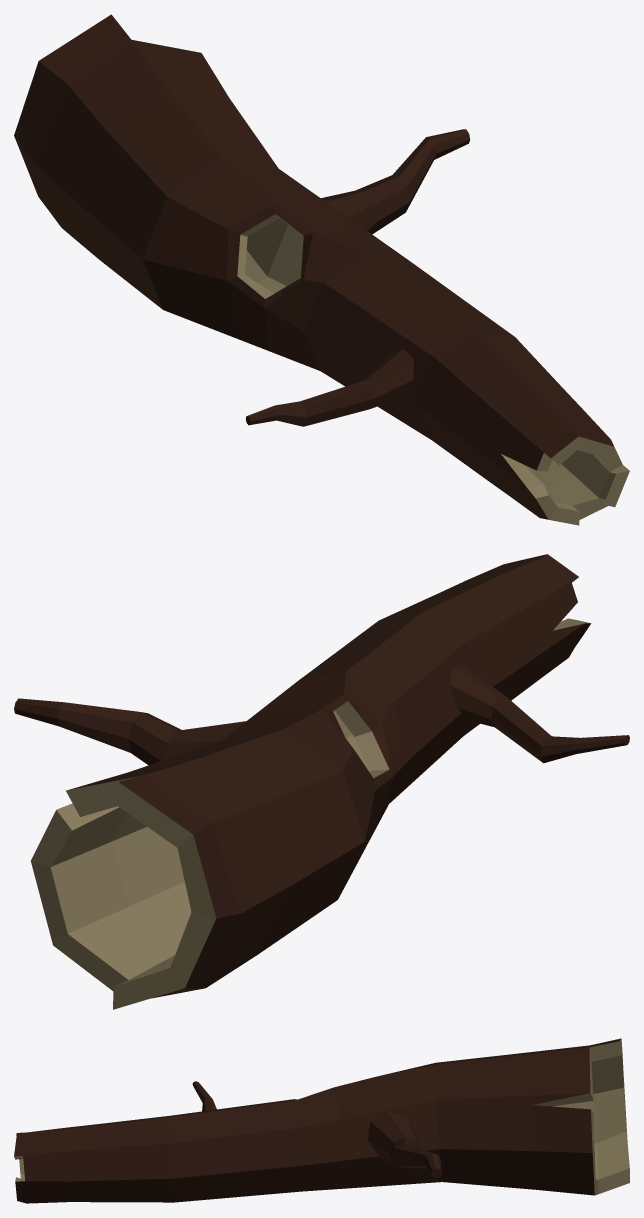
Rendered from tree_dead_log.glb.
3 renders of one model, top to bottom at view 1: azimuth 30°, elevation 25°; view 2: azimuth 150°, elevation 25°; view 3: azimuth 270°, elevation 25°, orthographic. The views are drawn at different scales.
Visible parts, largest first — view 1: dead_log; view 2: dead_log; view 3: dead_log.
Boxes of the visible parts, x1,y1,x2,y2 form: dead_log: [14, 14, 629, 525]; dead_log: [14, 554, 629, 1009]; dead_log: [14, 1038, 629, 1203].
Bounding box in the file's own units: 4.5 × 2.38 × 8.81.
